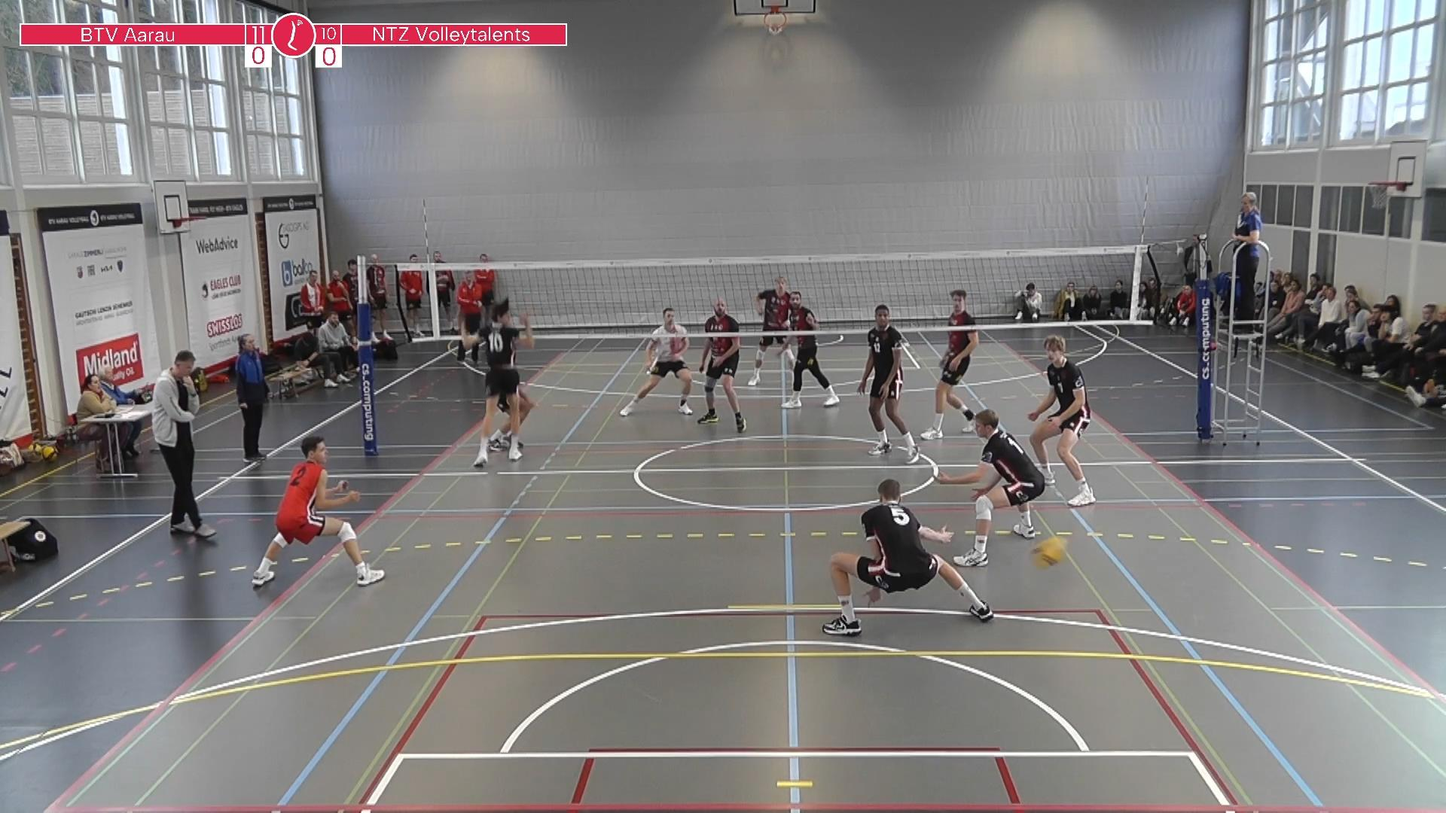difesa: (813, 478, 1002, 639), (931, 409, 1043, 574)
